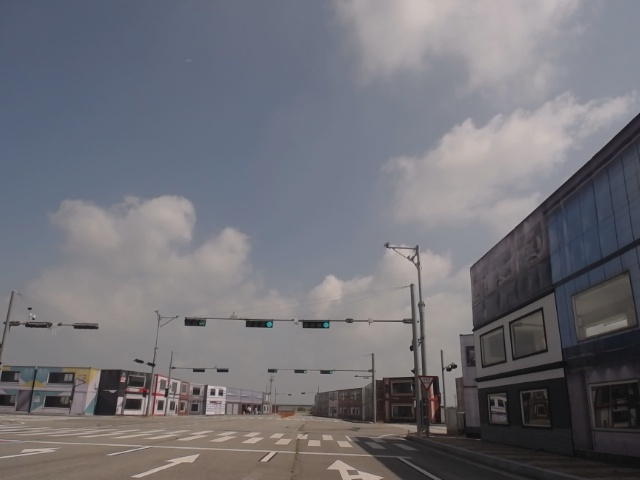straight_green_4: (303, 320, 330, 329), (246, 320, 275, 328)
